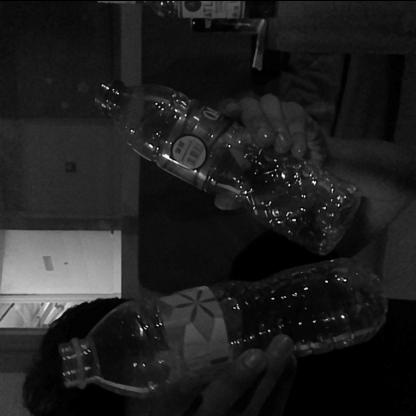plastic_bottles: (91, 78, 361, 254), (59, 254, 387, 392)
